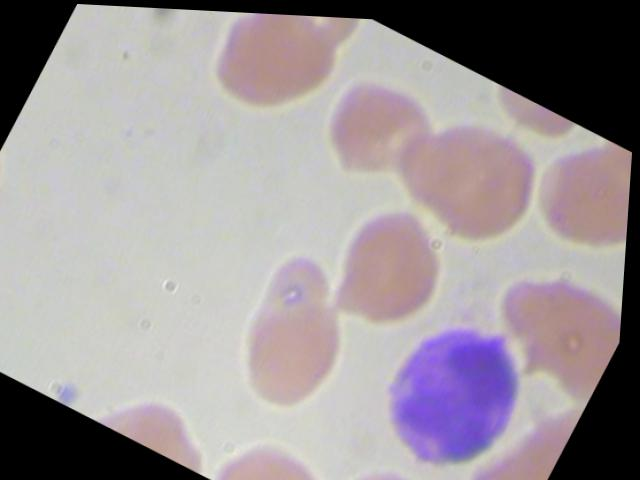Platelets: (47, 370, 99, 412)
Red Blood Cells: (377, 84, 567, 263), (214, 267, 384, 433), (306, 182, 477, 347), (298, 49, 459, 205), (197, 8, 356, 134), (510, 117, 634, 273), (316, 436, 462, 479)
White Blood Cells: (358, 281, 569, 479)
